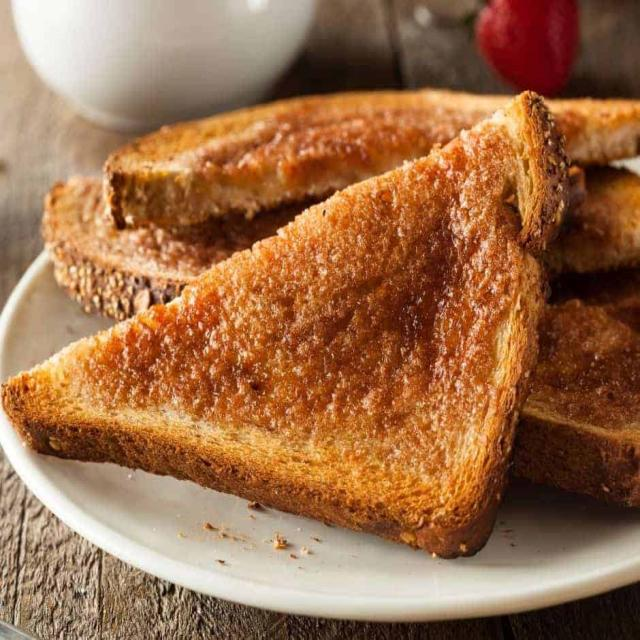Bread: (2, 92, 566, 557), (105, 89, 510, 227), (548, 100, 640, 163)
